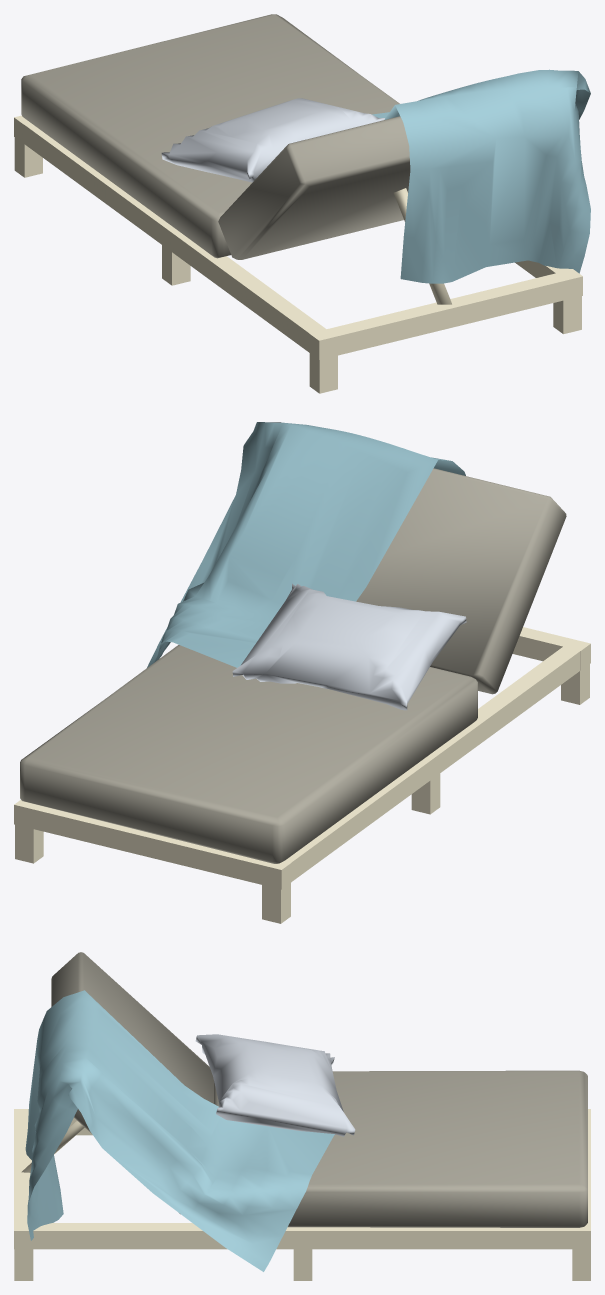
Rendered from sun_lounger.glb.
3 views of the same model, one above another, from view 1: azimuth 30°, elevation 25°; view 2: azimuth 150°, elevation 25°; view 3: azimuth 270°, elevation 25° (orthographic). The views are drawn at different scales.
Parts seen in each view (by area): view 1: Object_6, Object_12, Object_4, Object_14; view 2: Object_6, Object_12, Object_4, Object_14; view 3: Object_6, Object_12, Object_4, Object_14.
Boxes of the visible parts, x1,y1,x2,y2 form: Object_6: [21, 14, 410, 259]; Object_12: [372, 69, 590, 283]; Object_4: [14, 115, 582, 393]; Object_14: [161, 98, 384, 182]; Object_6: [20, 468, 566, 863]; Object_12: [147, 422, 465, 667]; Object_4: [14, 627, 590, 923]; Object_14: [232, 583, 466, 710]; Object_6: [51, 952, 587, 1227]; Object_12: [25, 990, 334, 1271]; Object_4: [14, 1109, 590, 1280]; Object_14: [195, 1034, 355, 1136].
Bounding box in the file's own units: 1.19 × 0.8453 × 2.
